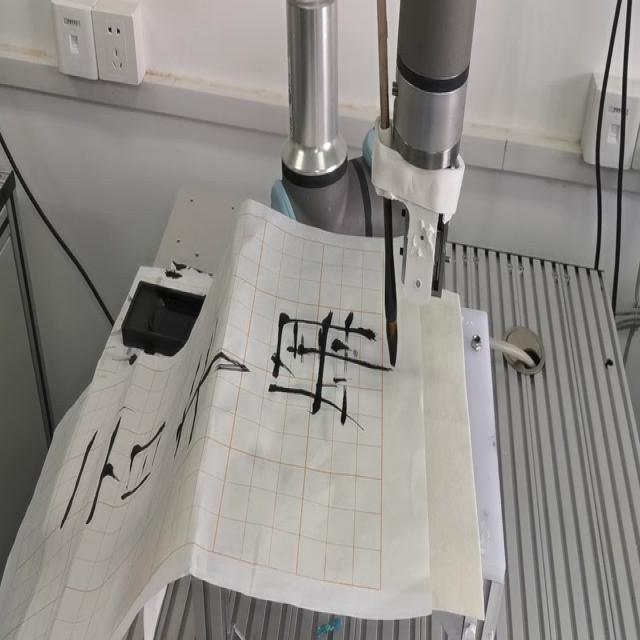head: (383, 319, 402, 365)
inkstone: (120, 278, 208, 359)
writing-brush: (372, 2, 403, 366)
